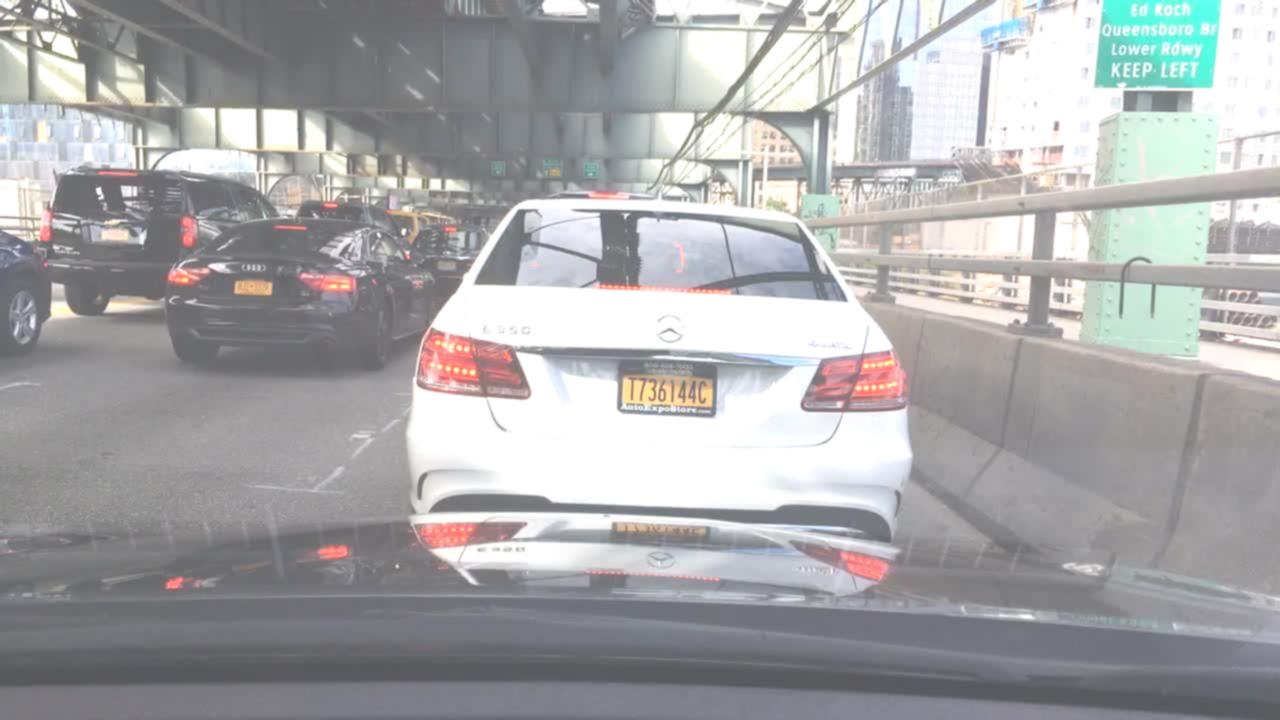Audi: (239, 259, 271, 274)
Mercedes: (652, 310, 689, 348)
